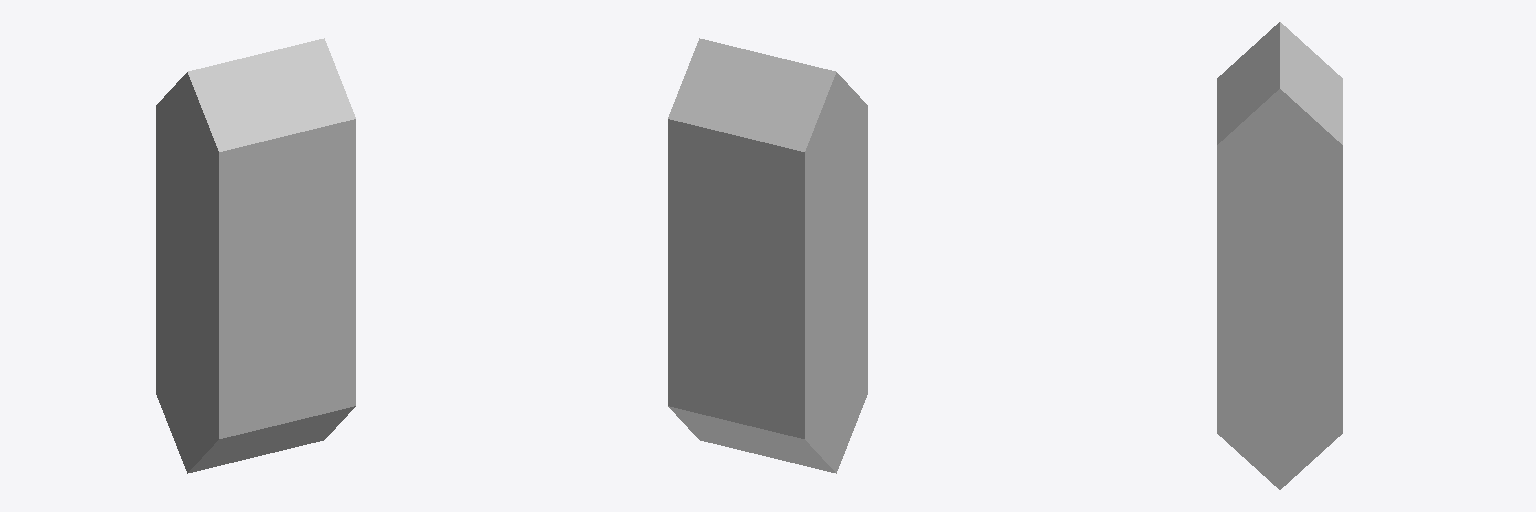
File: slide door lock.obj
3 views of the same model, side by side, from view 1: azimuth 30°, elevation 25°; view 2: azimuth 150°, elevation 25°; view 3: azimuth 270°, elevation 25° (orthographic).
Visible parts, largest first — view 1: Cube.001; view 2: Cube.001; view 3: Cube.001.
Part boxes in pixels (bbox=[...]): Cube.001: bbox=[156, 38, 355, 473]; Cube.001: bbox=[668, 38, 867, 473]; Cube.001: bbox=[1217, 22, 1342, 489].
Bounding box in the file's own units: 0.25 × 0.7 × 0.2.